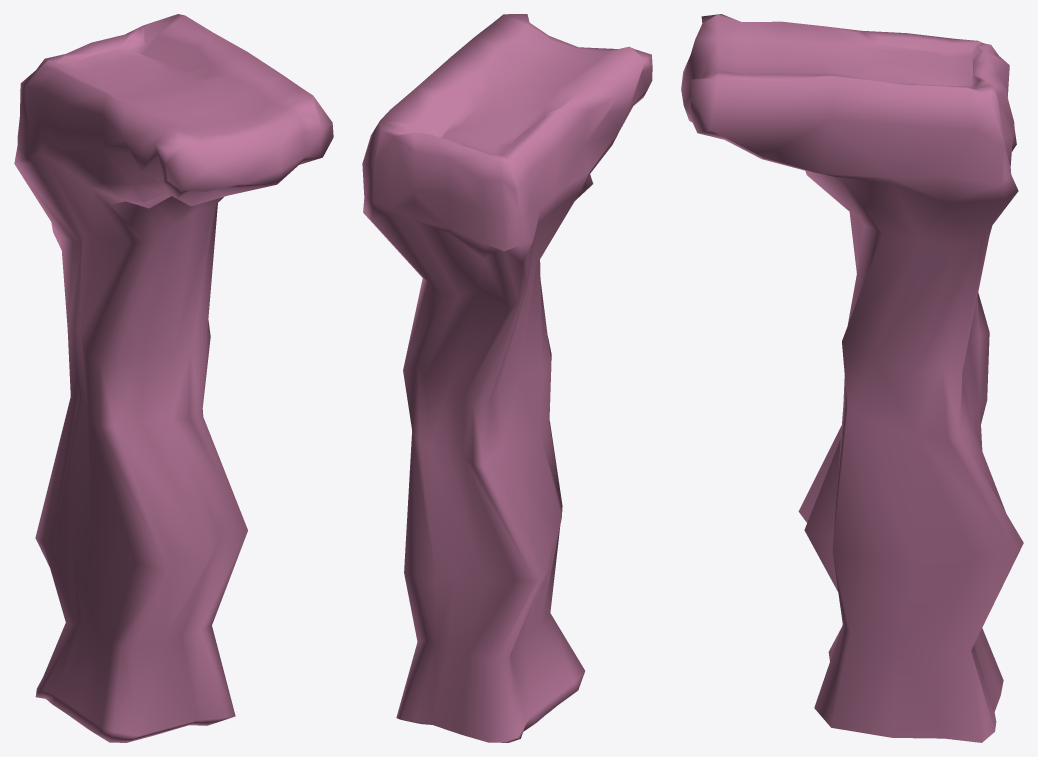
The model's file is terrain_W3A6e.fbx.
3 views of the same model, side by side, from view 1: azimuth 30°, elevation 25°; view 2: azimuth 150°, elevation 25°; view 3: azimuth 270°, elevation 25° (orthographic). The views are drawn at different scales.
Parts seen in each view (by area): view 1: W3A6_e; view 2: W3A6_e; view 3: W3A6_e.
Part boxes in pixels (x1,y1,x2,y2): W3A6_e: (14, 14, 333, 742); W3A6_e: (362, 14, 652, 742); W3A6_e: (681, 14, 1023, 742).
Bounding box in the file's own units: 4059 × 14711 × 6801.
